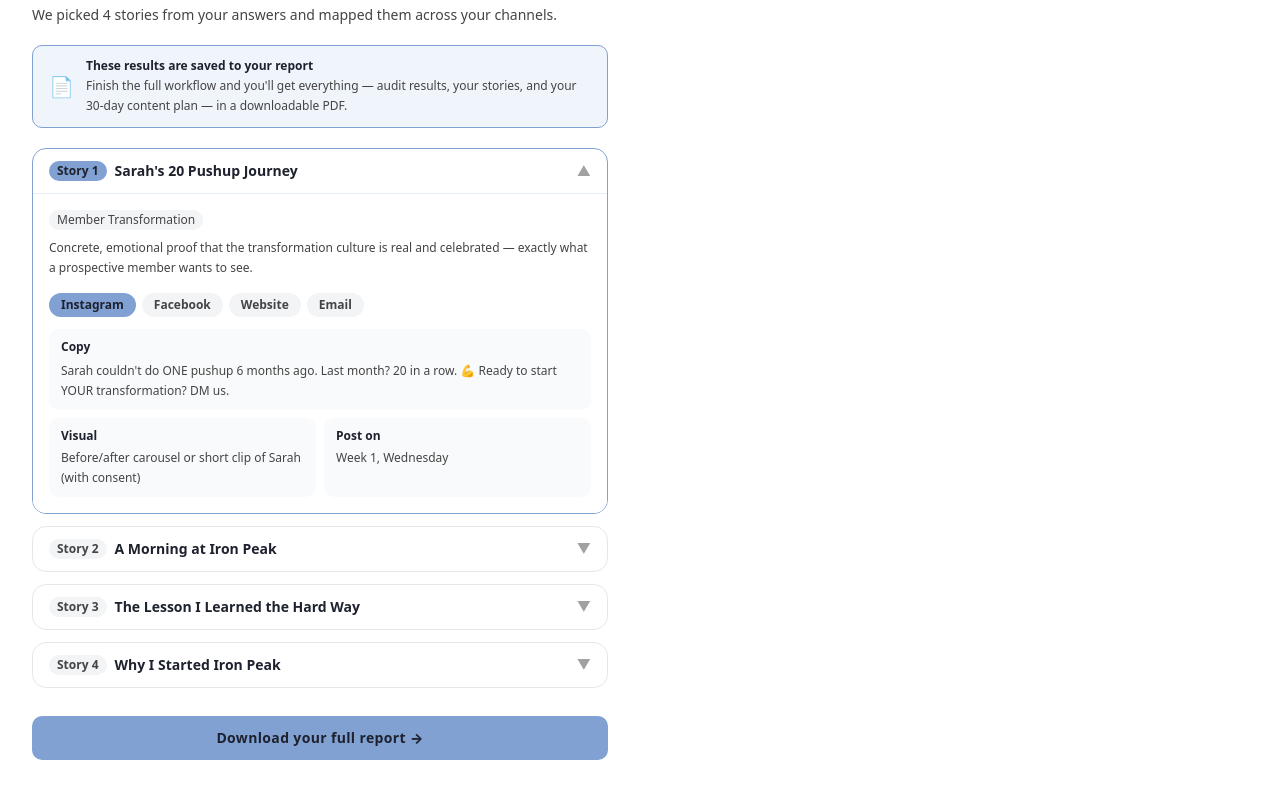
Test: opens the modal after a successful download, following the delay
(page scrolled)
Click the button "Download your full report →": (320, 738) [32,716,608,760]
Wait 2000 ms
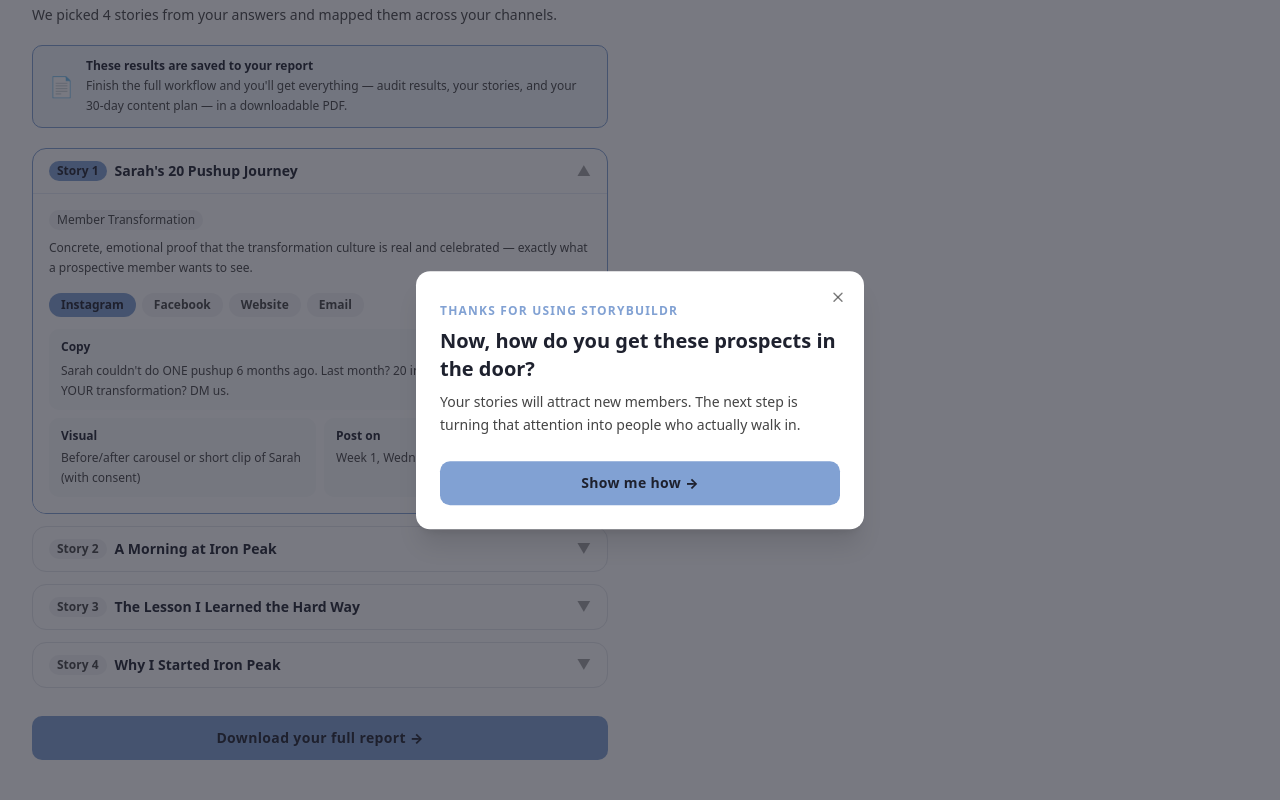
Expected: the heading "Now, how do you get these prospects in the door?" is shown, [440,327,840,383]
